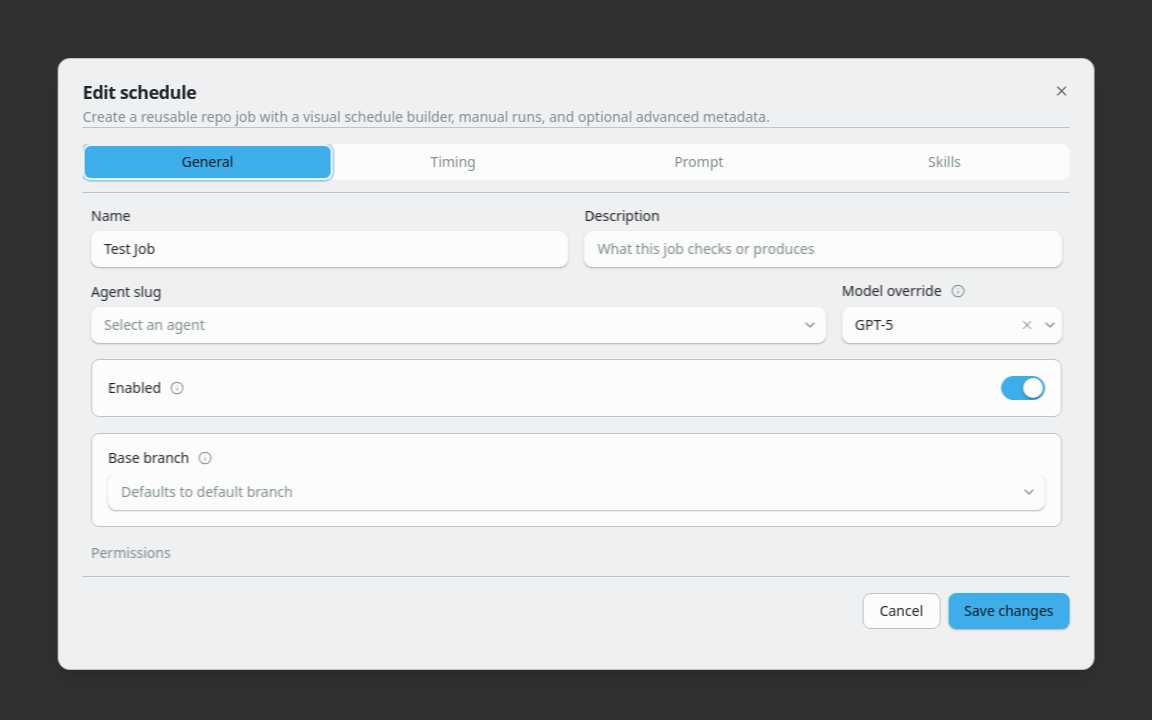
Test: ScheduleJobDialog — model fallback › does not duplicate a configured model referenced by its backing id
This screenshot has width=1152, height=720.
Click the field showing "GPT-5": (951, 325) [841,307,1061,343]
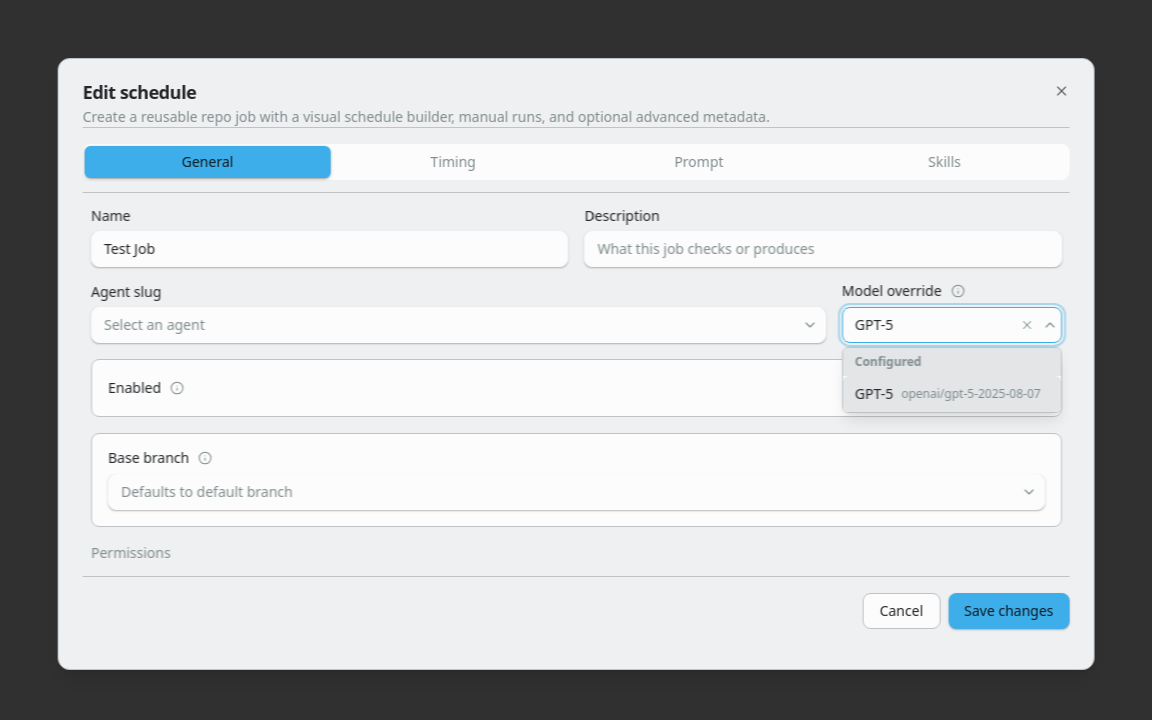
Now the text "GPT-5" is shown once, box [854,384,893,404]
